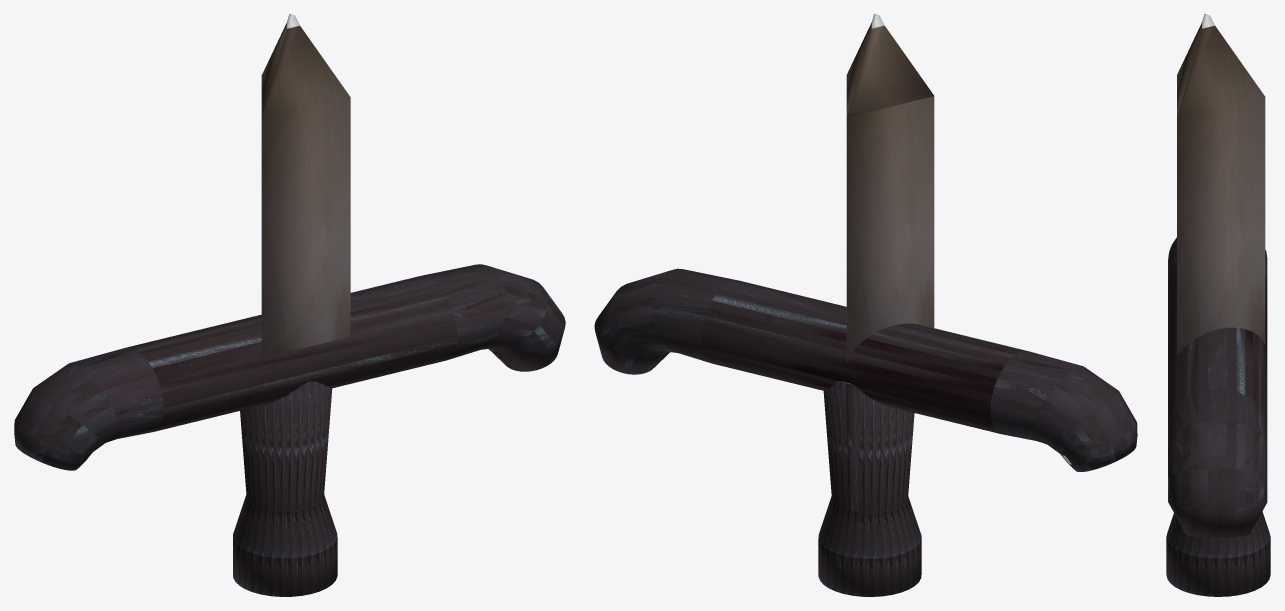
Rendered from DaggerD.fbx.
The picture shows the model from 3 angles, left to right: view 1: azimuth 30°, elevation 25°; view 2: azimuth 150°, elevation 25°; view 3: azimuth 270°, elevation 25°; orthographic projection.
Parts seen in each view (by area): view 1: Handles, Blade, Grip; view 2: Handles, Blade, Grip; view 3: Blade, Handles, Grip.
Boxes of the visible parts, <box> form: Handles: <box>14,264,565,470</box>; Blade: <box>261,14,350,358</box>; Grip: <box>233,381,337,596</box>; Handles: <box>594,268,1137,471</box>; Blade: <box>846,14,934,363</box>; Grip: <box>818,381,921,596</box>; Blade: <box>1177,14,1265,355</box>; Handles: <box>1168,237,1267,537</box>; Grip: <box>1166,511,1270,596</box>.
Bounding box in the file's own units: 3.65 × 3.67 × 0.619.
